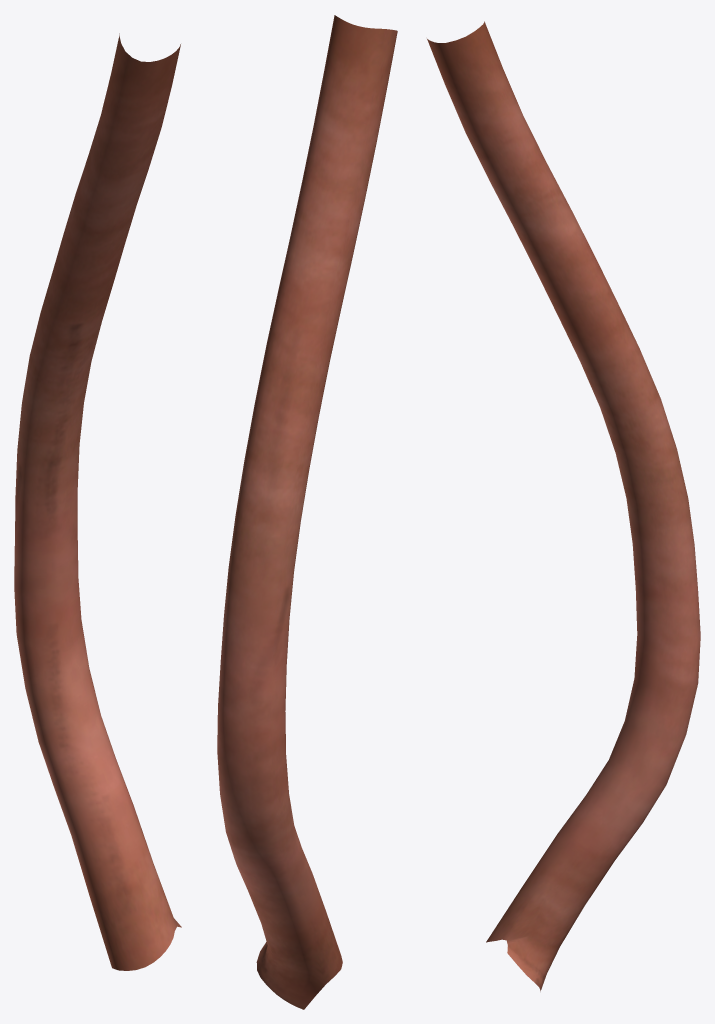
File: Esophagus_01.glb
3 renders of one model, left to right at view 1: azimuth 30°, elevation 25°; view 2: azimuth 150°, elevation 25°; view 3: azimuth 270°, elevation 25°, orthographic. The views are drawn at different scales.
Visible parts, largest first — view 1: Esophagus; view 2: Esophagus; view 3: Esophagus.
Boxes of the visible parts, <box> form: Esophagus: <box>14,33,181,970</box>; Esophagus: <box>217,15,397,1009</box>; Esophagus: <box>427,21,700,991</box>.
Bounding box in the file's own units: 0.0329 × 0.3151 × 0.0804.
1 material, 1 textured.
